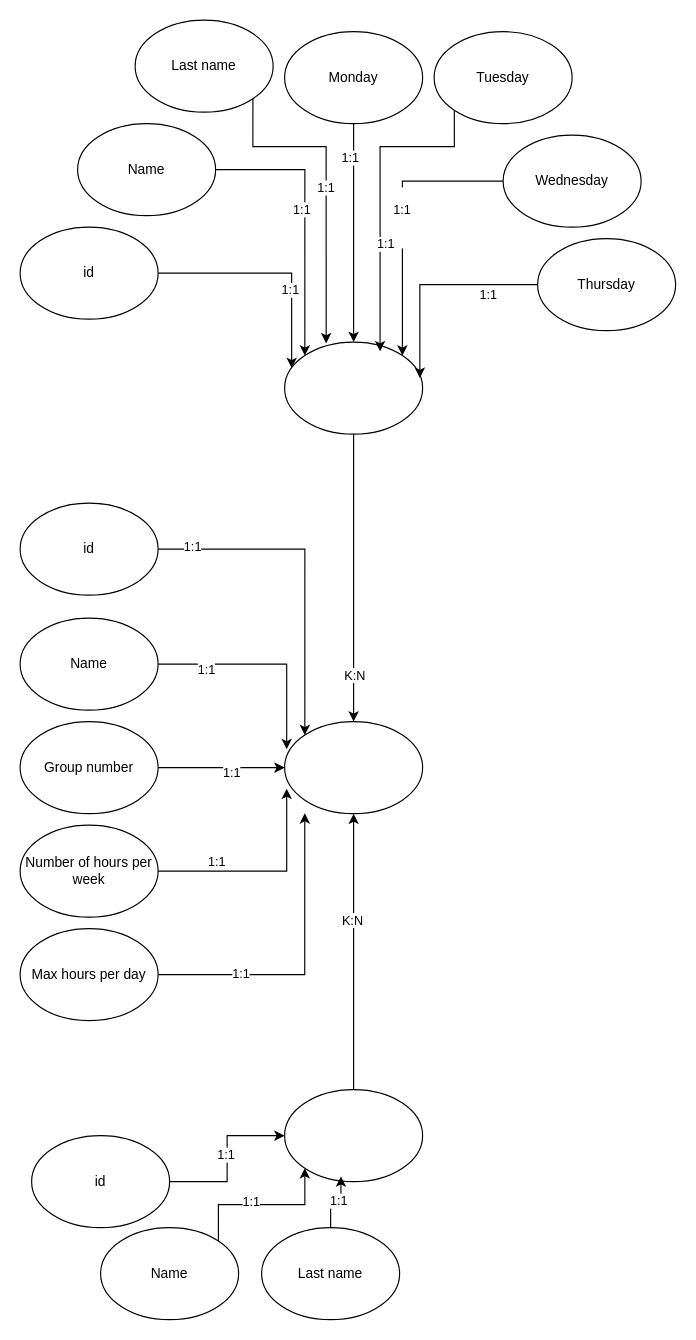
Image size: 696x1340. Some labels were removed from this diagram. Each missing label, with the centre of its shape:
"Students" goes at (x=353, y=1135).
"Subject" goes at (x=353, y=767).
"Teacher" goes at (x=353, y=387).
